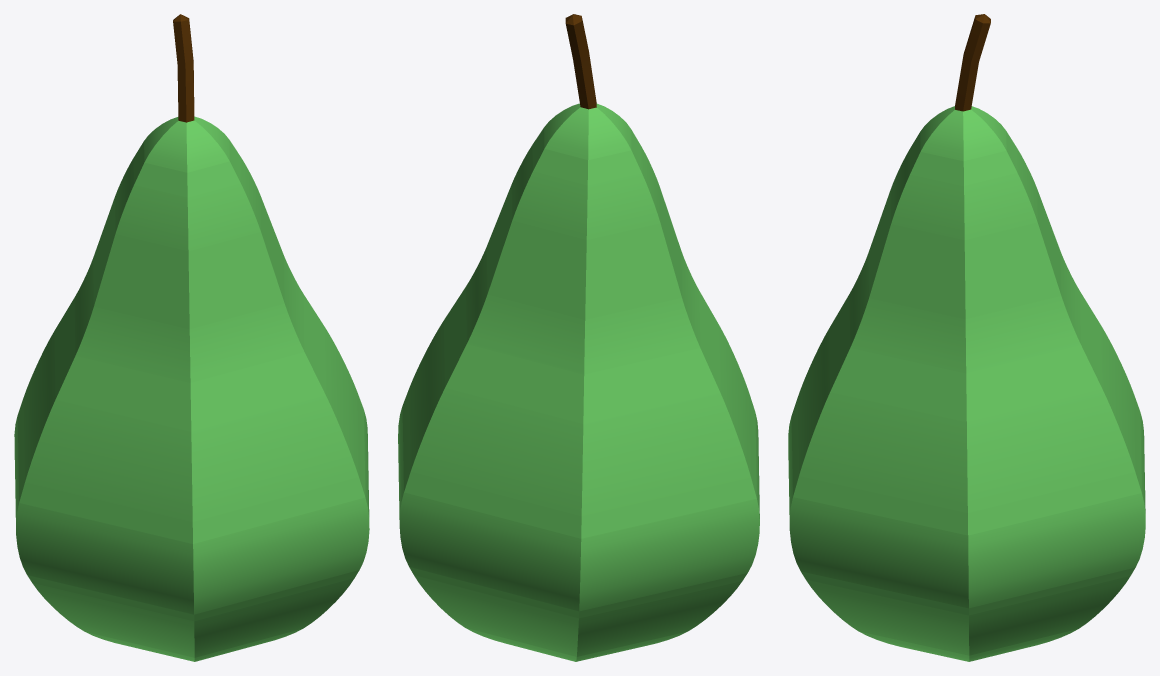
Rendered from pear.fbx.
3 renders of one model, left to right at view 1: azimuth 30°, elevation 25°; view 2: azimuth 150°, elevation 25°; view 3: azimuth 270°, elevation 25°, orthographic.
Visible parts, largest first — view 1: z; view 2: z; view 3: z.
Boxes of the visible parts, <box> form: z: <box>14,14,369,661</box>; z: <box>398,14,759,661</box>; z: <box>788,14,1145,661</box>.
Size of the model in its own units: 25.35 by 43.16 by 22.04.
